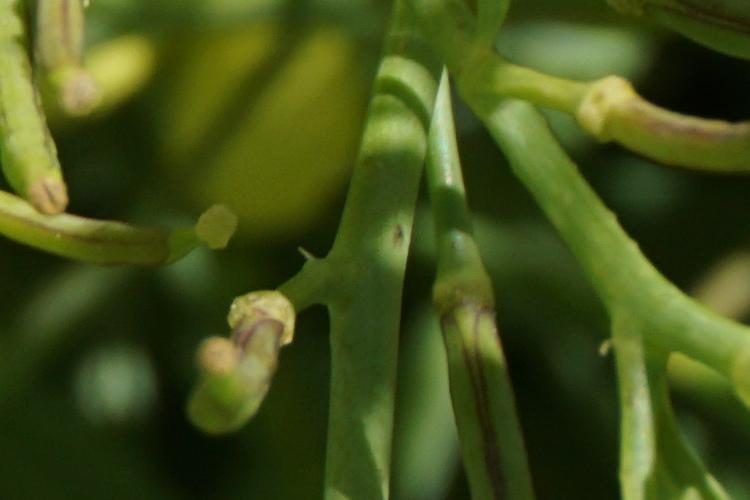pod: (426, 284, 571, 495), (8, 185, 263, 284), (177, 288, 311, 427), (575, 75, 748, 179), (4, 39, 68, 224), (36, 17, 130, 139)
